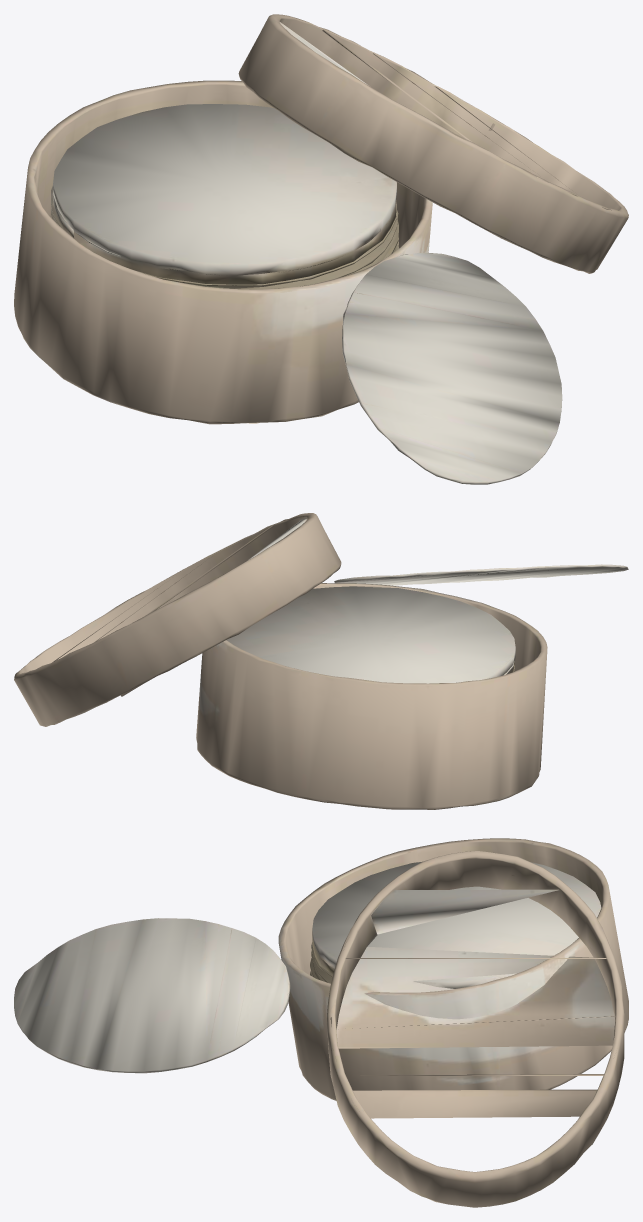
Rendered from 019f4e1b-c672-75b5-83a6-50e6caca844e.glb.
3 renders of one model, top to bottom at view 1: azimuth 30°, elevation 25°; view 2: azimuth 150°, elevation 25°; view 3: azimuth 270°, elevation 25°, orthographic. The views are drawn at different scales.
Parts seen in each view (by area): view 1: tripo_node_77f4b849-1951-4e52-b6ae-28739feab0a8; view 2: tripo_node_77f4b849-1951-4e52-b6ae-28739feab0a8; view 3: tripo_node_77f4b849-1951-4e52-b6ae-28739feab0a8.
Boxes of the visible parts, bbox=[...] form: tripo_node_77f4b849-1951-4e52-b6ae-28739feab0a8: bbox=[14, 14, 628, 484]; tripo_node_77f4b849-1951-4e52-b6ae-28739feab0a8: bbox=[14, 513, 628, 809]; tripo_node_77f4b849-1951-4e52-b6ae-28739feab0a8: bbox=[14, 838, 628, 1207].
Bounding box in the file's own units: 0.9199 × 0.4355 × 0.998.
Materials: 1 (1 with a texture image).
